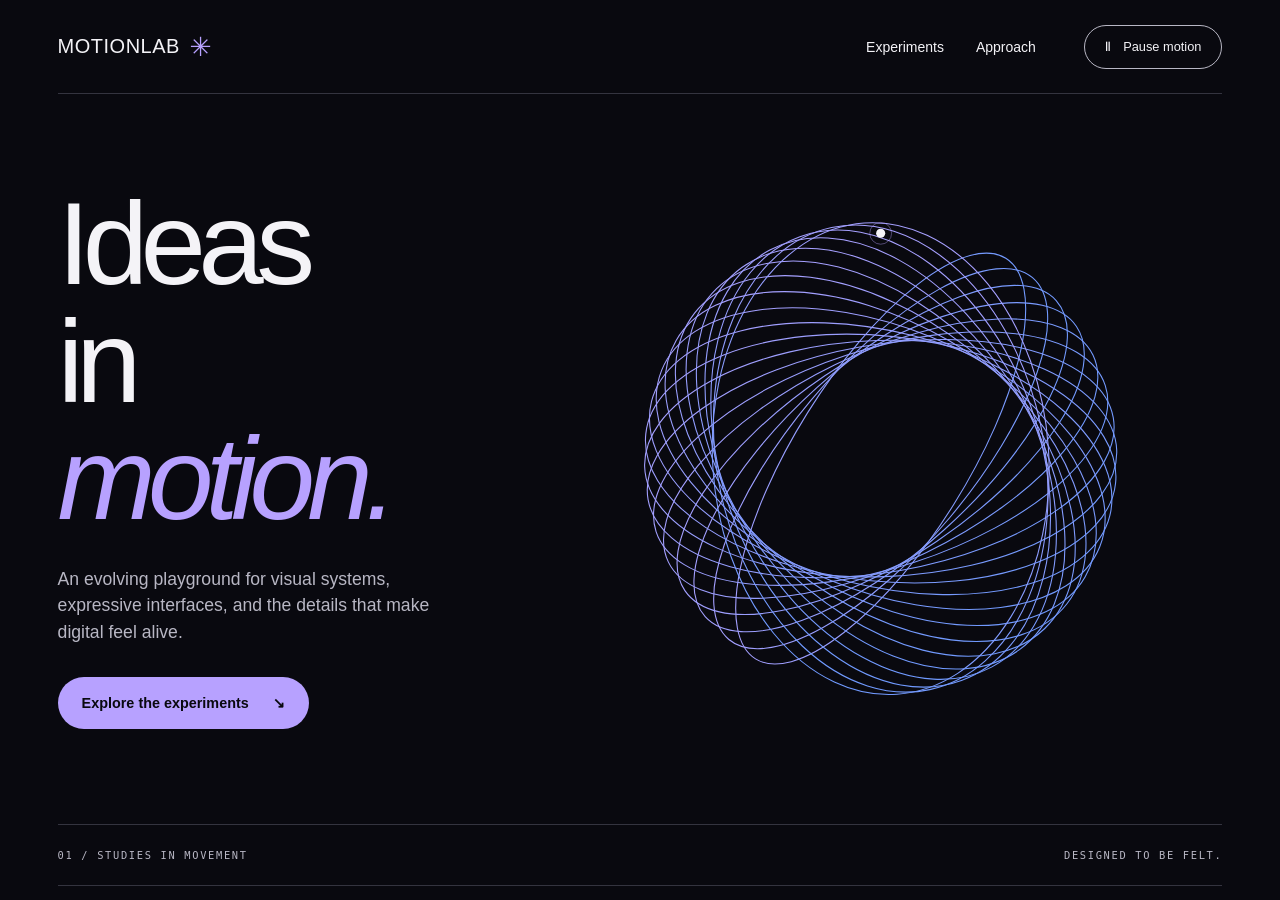
Test: MOTIONLAB landing page › lets the visitor pause and resume animation with clear action labels
Click the button "Ⅱ Pause motion".
click(1153, 46)  # box 1084,24 -> 1222,68
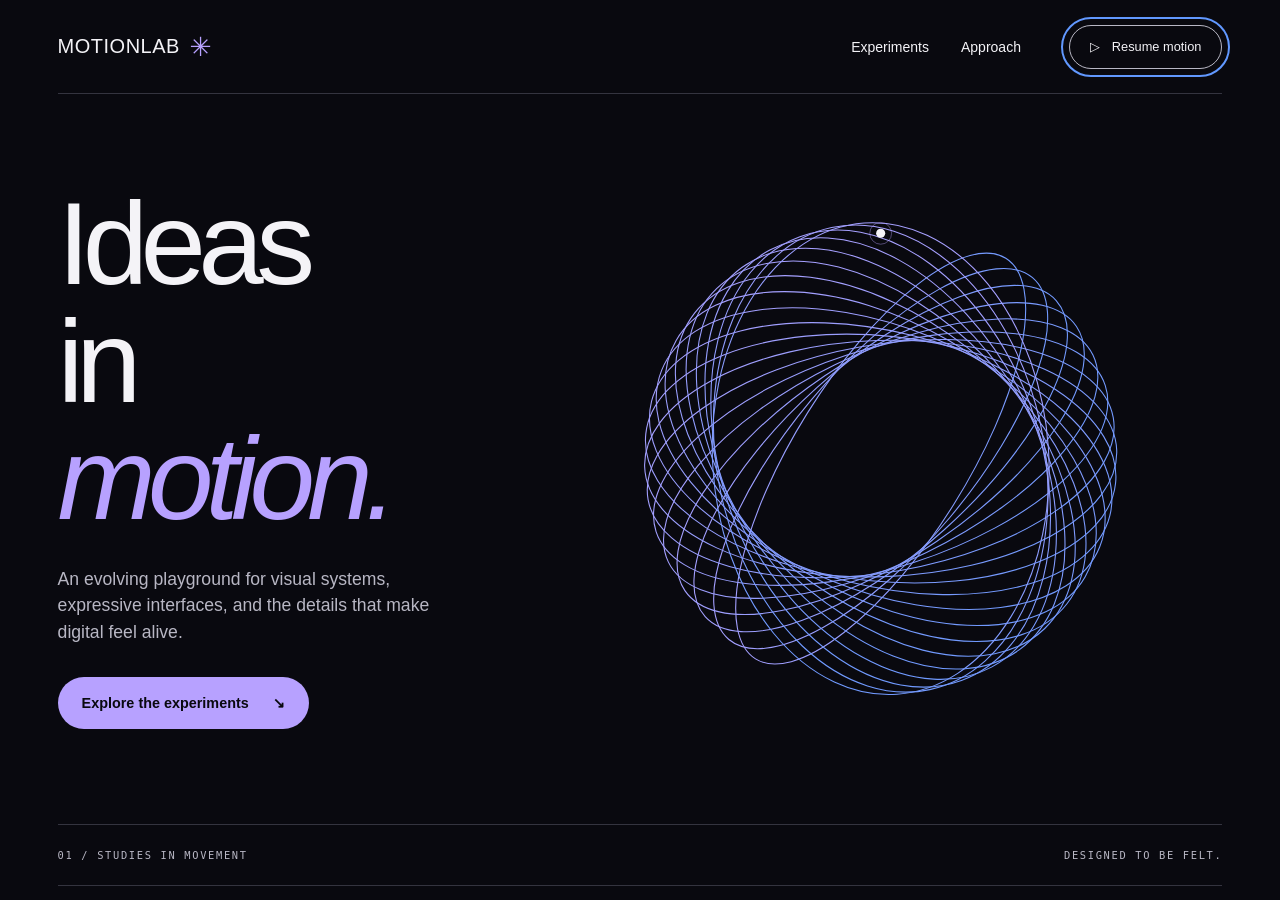
Check: the button named "Pause motion" shows "Resume motion"
Click the button named "Pause motion".
click(1146, 46)  # box 1069,24 -> 1222,68
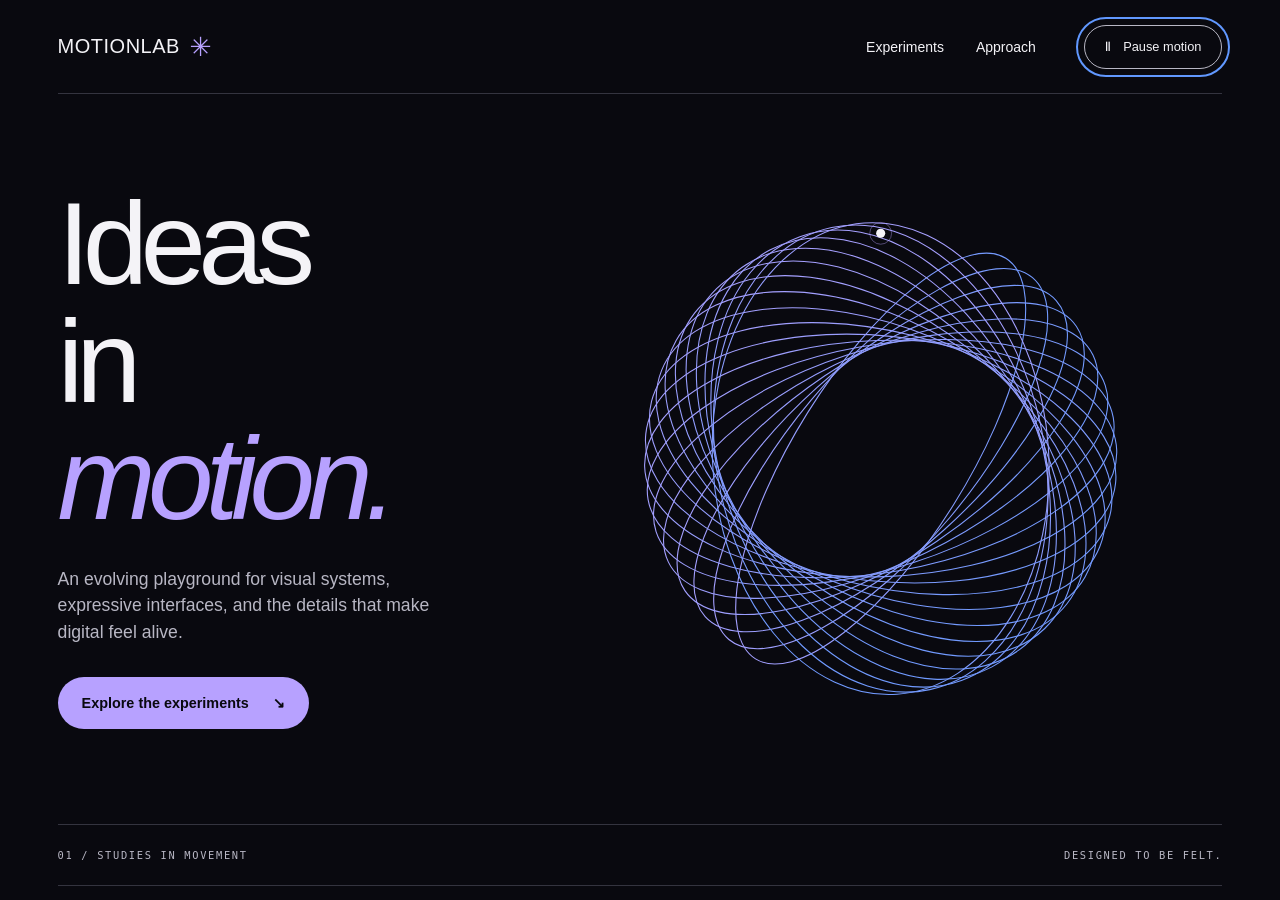
Check: the button "Ⅱ Pause motion" is shown, box 1084,24 -> 1222,68
